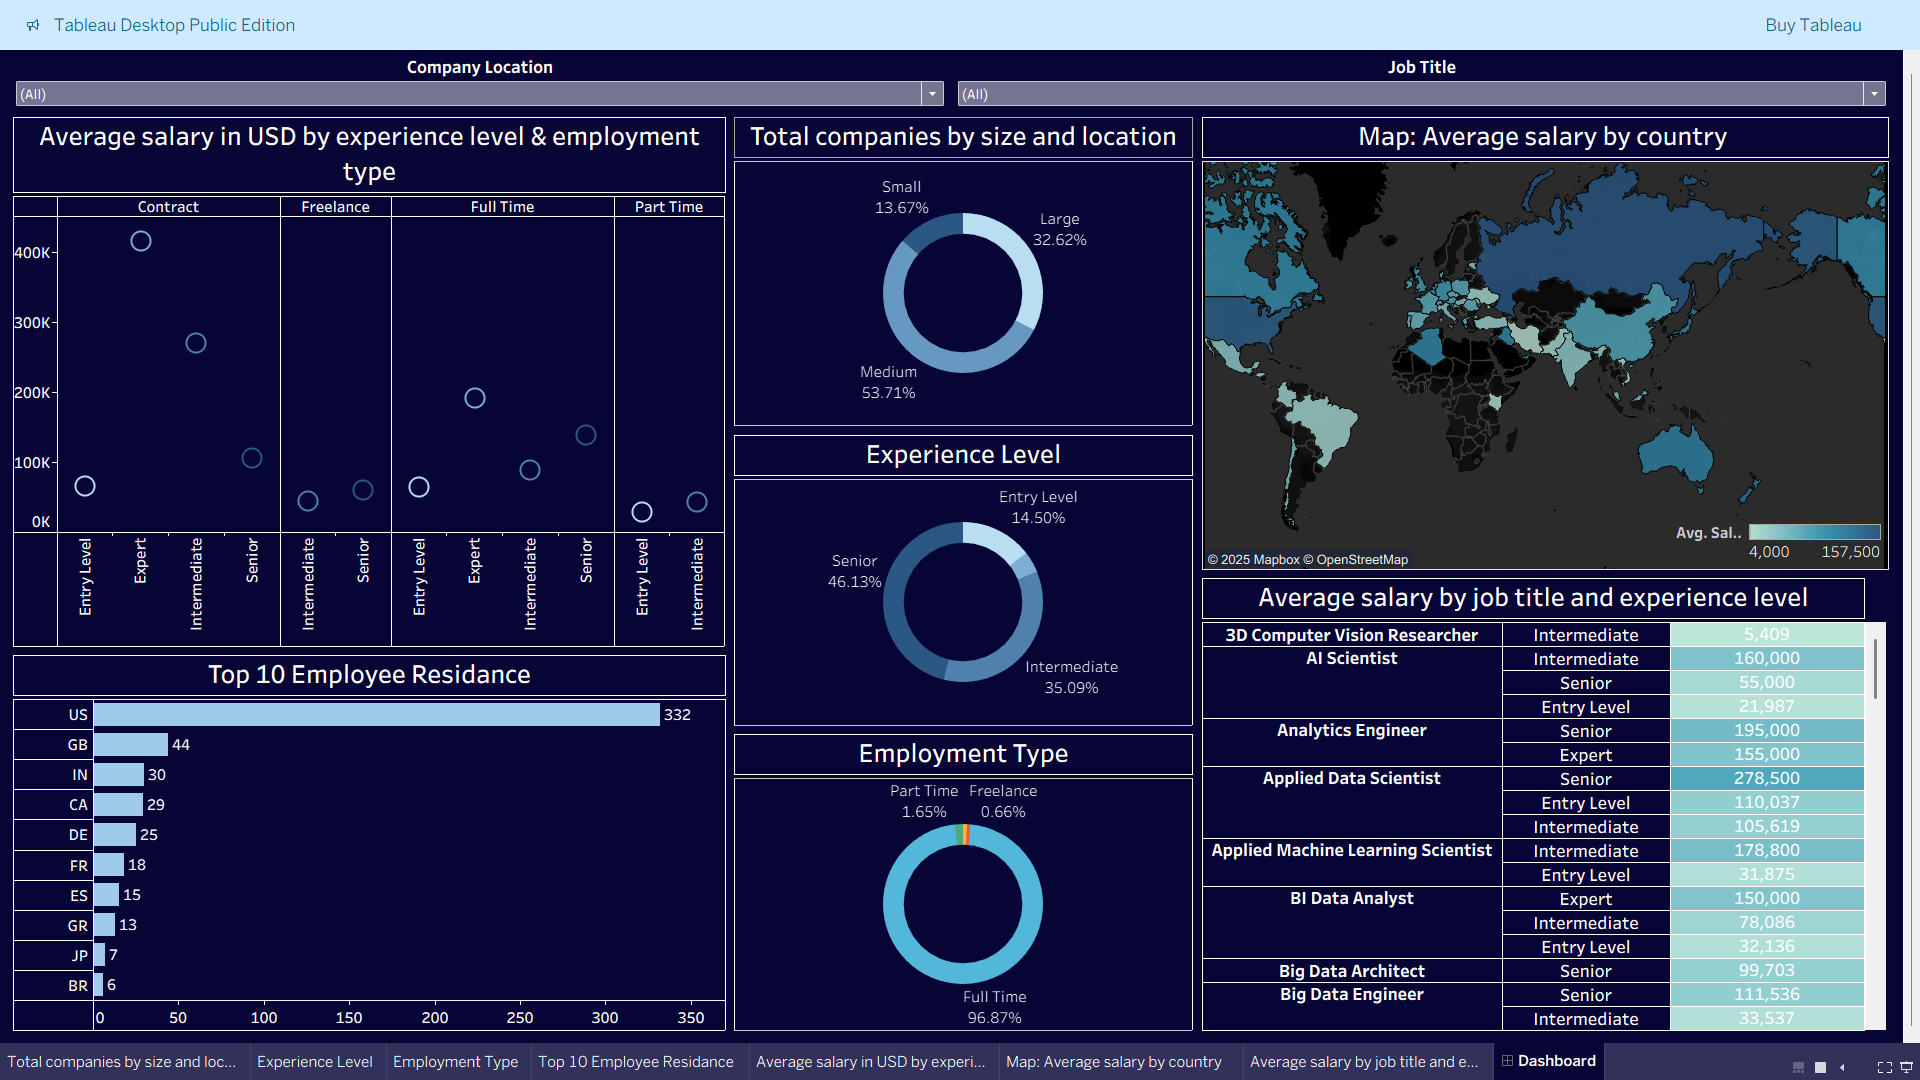

The page's visual inventory and layout, read from the dashboard file:
{"tool":"tableau","page":{"name":"Dashboard","canvas":[1900,1000],"ordinal":0},"visuals":[{"type":"filter","title":"Total companies by size and location","param":"[federated.0b13ejg0iwlxzf19exbnh1aicyi4].[none:company_location:nk]","box":[8,8,942,62.3]},{"type":"filter","title":"Map: Average salary by country ","param":"[federated.0b13ejg0iwlxzf19exbnh1aicyi4].[none:job_title:nk]","box":[950,8,942,62.3]},{"type":"worksheet","title":"Average salary in USD by experience level & employment type","mark":"Shape","rows":["salary_in_usd"],"cols":["employment_type","experience_level"],"box":[8,70.3,721.3,537.7]},{"type":"worksheet","title":"Total companies by size and location","mark":"Pie","rows":["Calculation_986569819365167105","Calculation_986569819365167105"],"box":[729.3,70.3,467.4,317.5]},{"type":"worksheet","title":"Map: Average salary by country ","mark":"Automatic","box":[1196.7,70.3,695.3,460.8]},{"type":"worksheet","title":"Experience Level","mark":"Pie","rows":["Calculation_986569819365167105","Calculation_986569819365167105"],"box":[729.3,387.8,467.4,299.2]},{"type":"legend","title":"Map: Average salary by country ","param":"[federated.0b13ejg0iwlxzf19exbnh1aicyi4].[avg:salary_in_usd:qk]","box":[1672,476.7,211.7,43.3]},{"type":"worksheet","title":"Average salary by job title and experience level","mark":"Square","rows":["job_title","experience_level"],"box":[1196.7,531.1,695.3,460.9]},{"type":"worksheet","title":"Top 10 Employee Residance","mark":"Automatic","rows":["employee_residence"],"cols":["employee_residence"],"box":[8,608,721.3,384]},{"type":"worksheet","title":"Employment Type","mark":"Pie","rows":["Calculation_986569819365167105","Calculation_986569819365167105"],"box":[729.3,687,467.4,305]}]}

Visuals, with their boxes in screenshot pixels (x1, y1, x2, y2):
"Total companies by size and location" filter: {"left": 8, "top": 43, "right": 947, "bottom": 105}
"Map: Average salary by country " filter: {"left": 947, "top": 43, "right": 1885, "bottom": 105}
"Average salary in USD by experience level & employment type" worksheet (Shape marks): {"left": 8, "top": 105, "right": 727, "bottom": 641}
"Total companies by size and location" worksheet (Pie marks): {"left": 727, "top": 105, "right": 1193, "bottom": 421}
"Map: Average salary by country " worksheet: {"left": 1193, "top": 105, "right": 1885, "bottom": 564}
"Experience Level" worksheet (Pie marks): {"left": 727, "top": 421, "right": 1193, "bottom": 720}
"Map: Average salary by country " legend: {"left": 1666, "top": 510, "right": 1877, "bottom": 553}
"Average salary by job title and experience level" worksheet (Square marks): {"left": 1193, "top": 564, "right": 1885, "bottom": 1024}
"Top 10 Employee Residance" worksheet: {"left": 8, "top": 641, "right": 727, "bottom": 1024}
"Employment Type" worksheet (Pie marks): {"left": 727, "top": 720, "right": 1193, "bottom": 1024}
